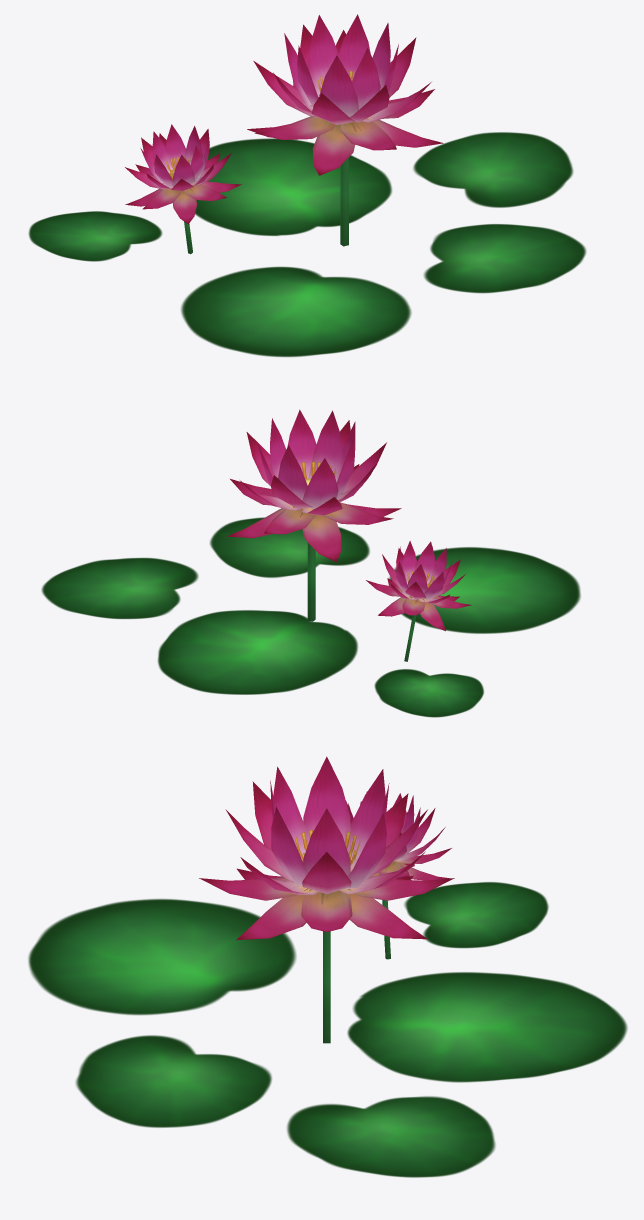
File: waterlily.glb
The picture shows the model from 3 angles, top to bottom: view 1: azimuth 30°, elevation 25°; view 2: azimuth 150°, elevation 25°; view 3: azimuth 270°, elevation 25°; orthographic projection. The views are drawn at different scales.
Parts seen in each view (by area): view 1: Lotus; view 2: Lotus; view 3: Lotus.
Boxes of the visible parts, x1,y1,x2,y2 form: Lotus: [28, 14, 586, 356]; Lotus: [41, 409, 580, 717]; Lotus: [28, 756, 627, 1177].
Bounding box in the file's own units: 1.41 × 0.5033 × 1.07.
1 material, 1 textured.
